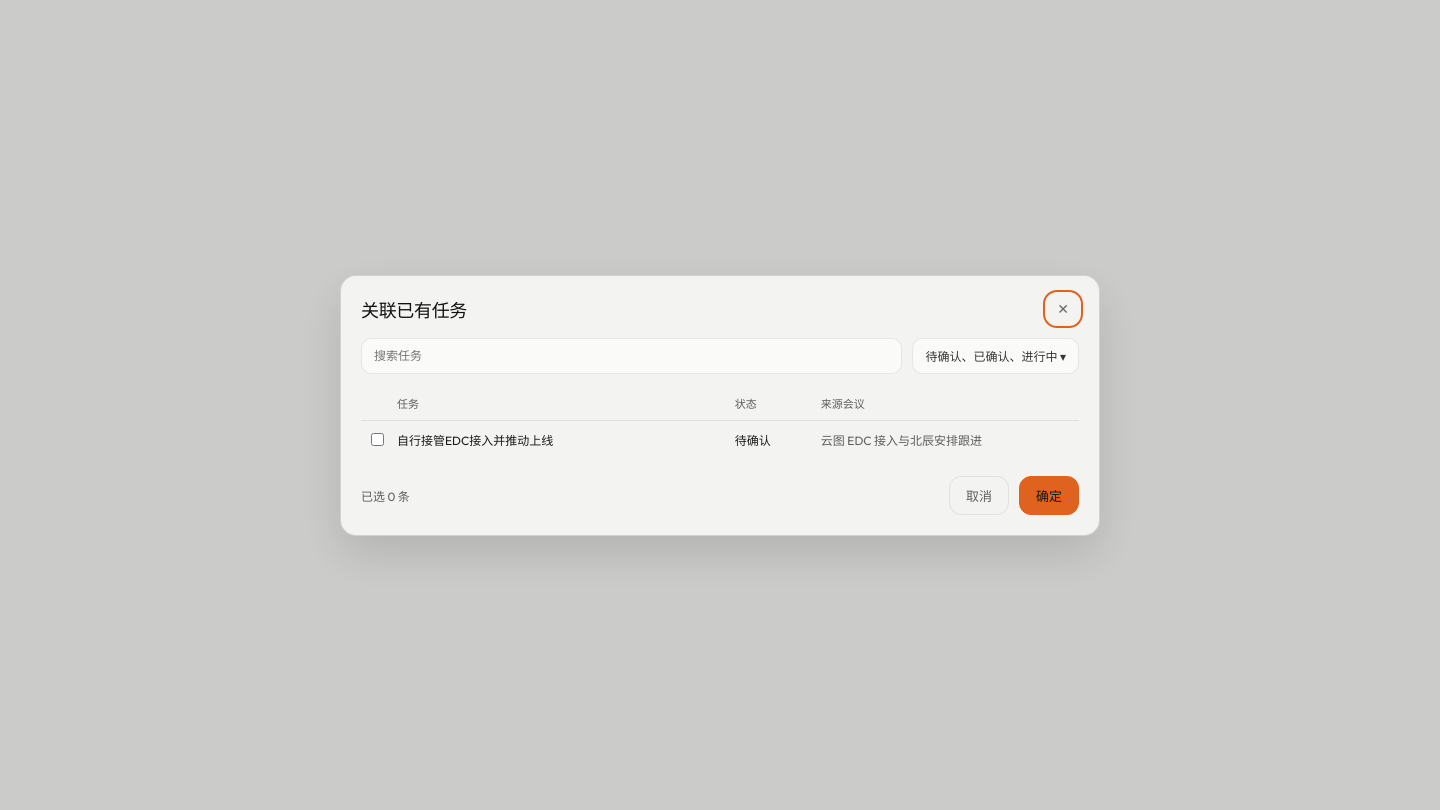
Test: LinkTasksModal › D24：批量里有任务已不存在时，就地显示 404 原因，不关弹窗、勾选不丢
This screenshot has width=1440, height=810.
Step 1. Click the checkbox labelled "自行接管EDC接入并推动上线 待确认 云图 EDC 接入与北辰安排跟进" → (378, 439), box x1=371 y1=432 x2=384 y2=446
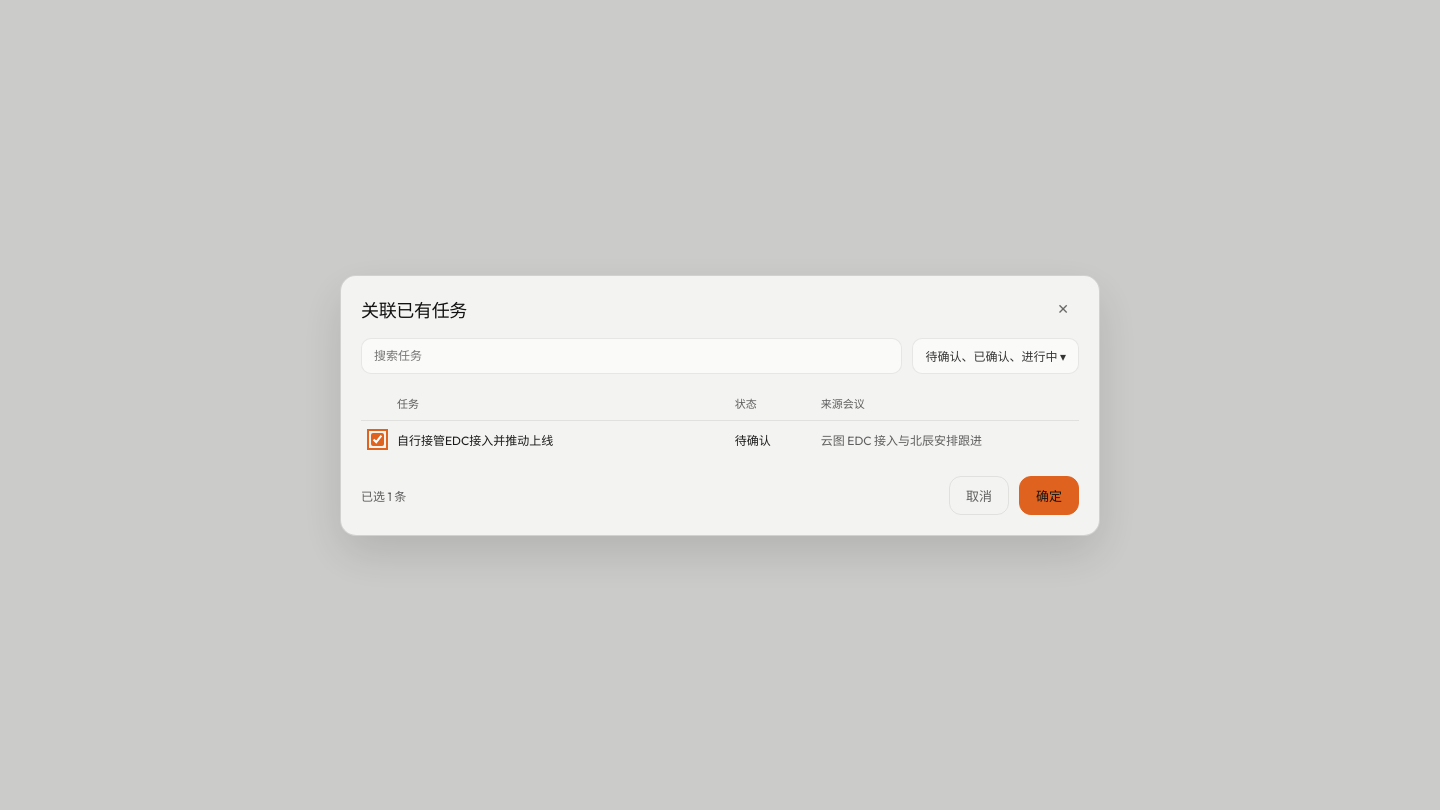
Step 2. Click the button "确定" → (1049, 495), box x1=1019 y1=476 x2=1079 y2=514
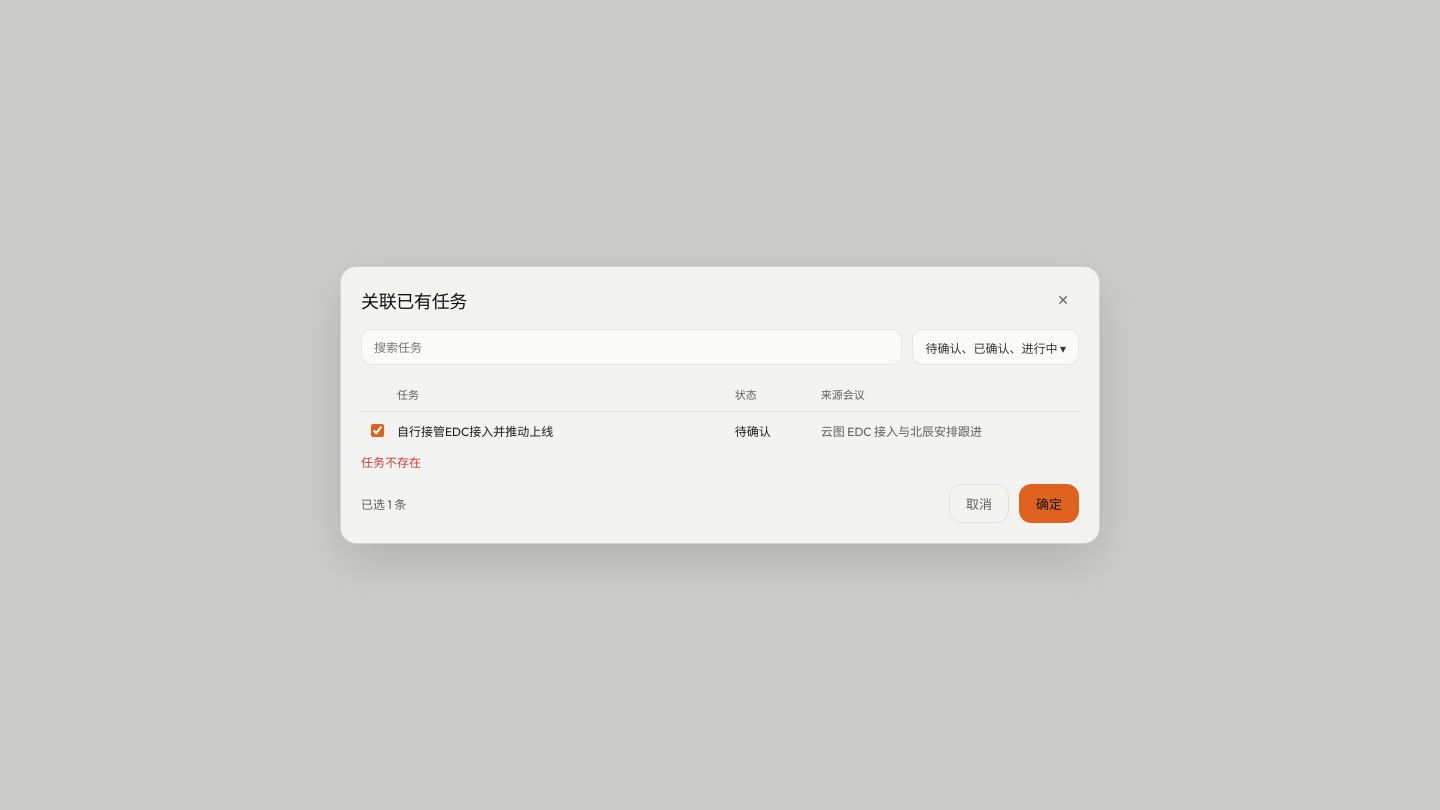
Check: the checkbox labelled "自行接管EDC接入并推动上线 待确认 云图 EDC 接入与北辰安排跟进" is checked, box x1=371 y1=424 x2=384 y2=437
Check: the message reads "任务不存在", box x1=361 y1=455 x2=421 y2=470
